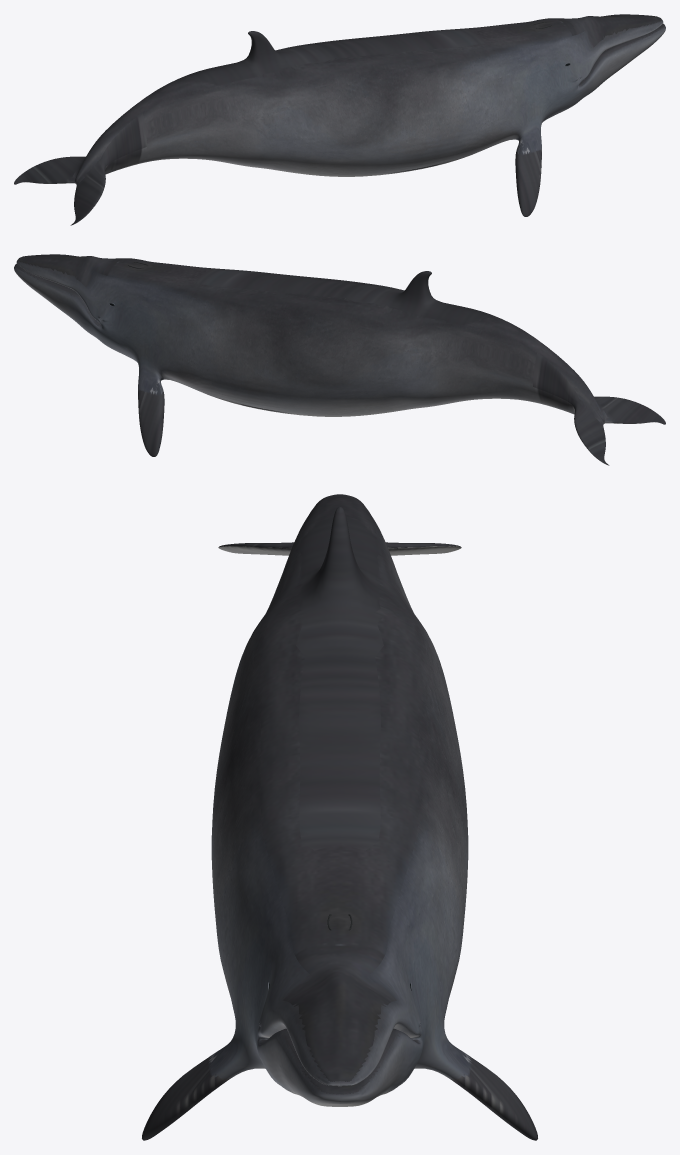
Rendered from model-cetacean-balaenoptera-bonaerensis-v0678.glb.
3 views of the same model, one above another, from view 1: azimuth 30°, elevation 25°; view 2: azimuth 150°, elevation 25°; view 3: azimuth 270°, elevation 25° (orthographic). The views are drawn at different scales.
Parts seen in each view (by area): view 1: balaenoptera-bonaerensis licensed source body; view 2: balaenoptera-bonaerensis licensed source body; view 3: balaenoptera-bonaerensis licensed source body.
Part boxes in pixels (x1=…): balaenoptera-bonaerensis licensed source body: x1=14, y1=14, x2=665, y2=225; balaenoptera-bonaerensis licensed source body: x1=14, y1=254, x2=665, y2=465; balaenoptera-bonaerensis licensed source body: x1=142, y1=494, x2=537, y2=1140.
Bounding box in the file's own units: 3.83 × 1.21 × 1.06.
3 materials, 1 textured.
